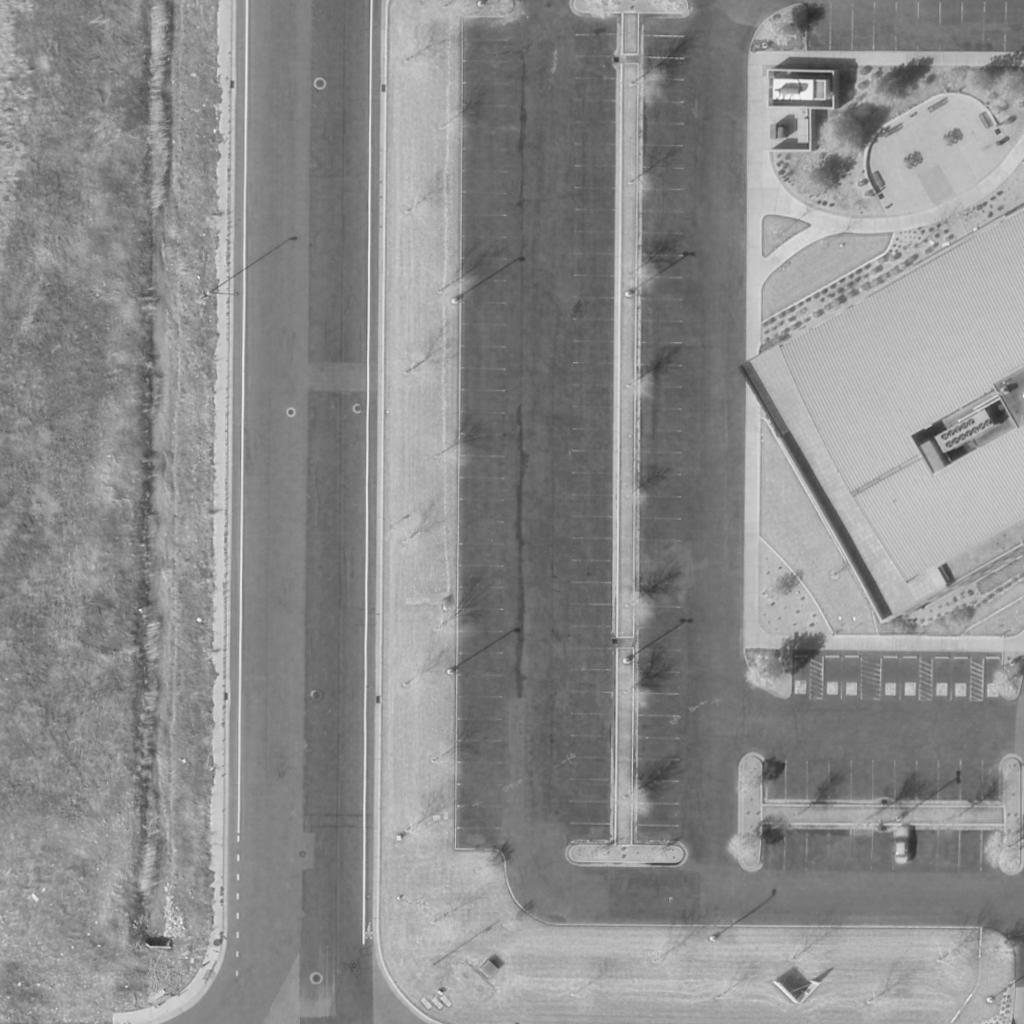vehicle: (895, 826, 911, 864)
